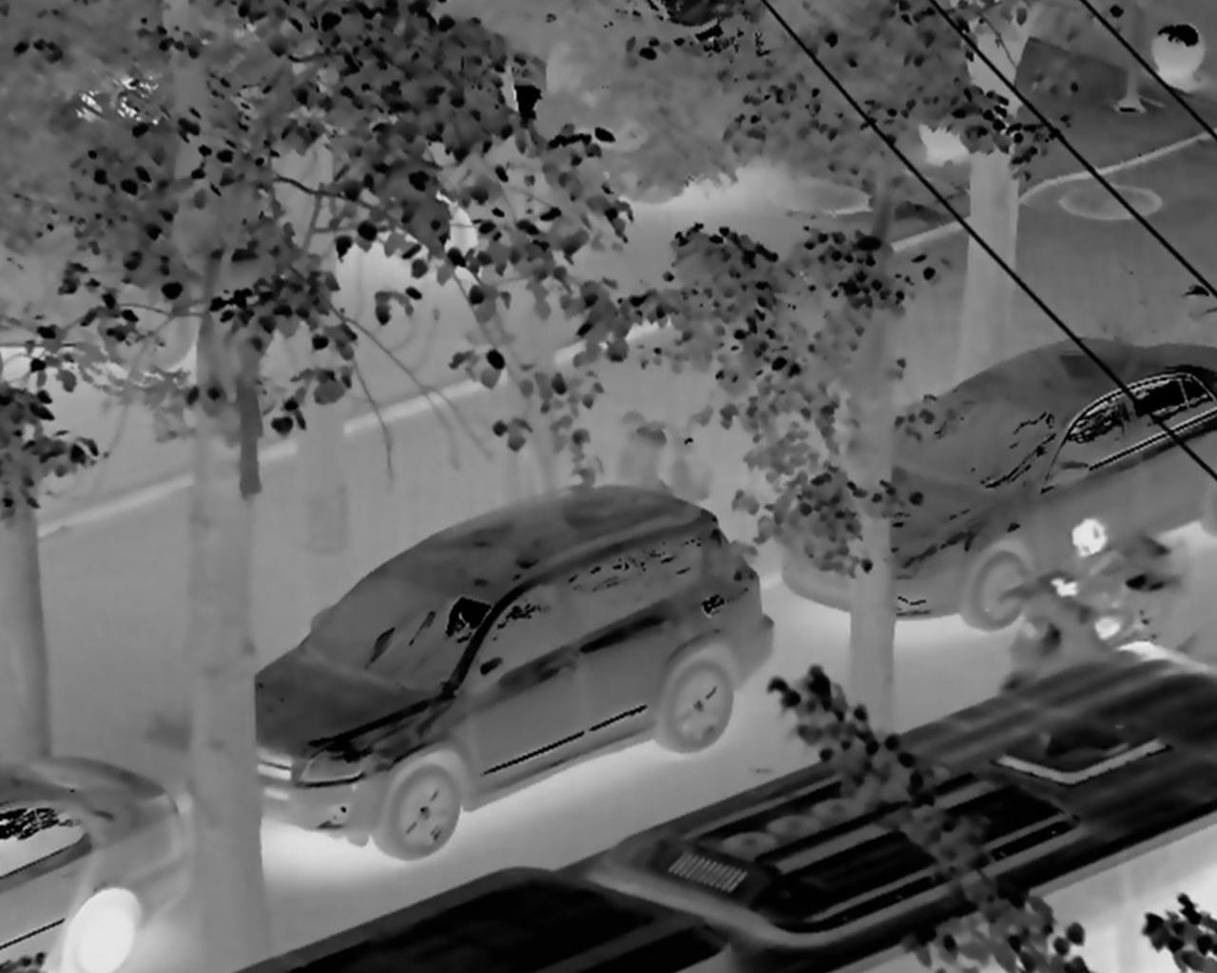person: (988, 499, 1189, 670)
